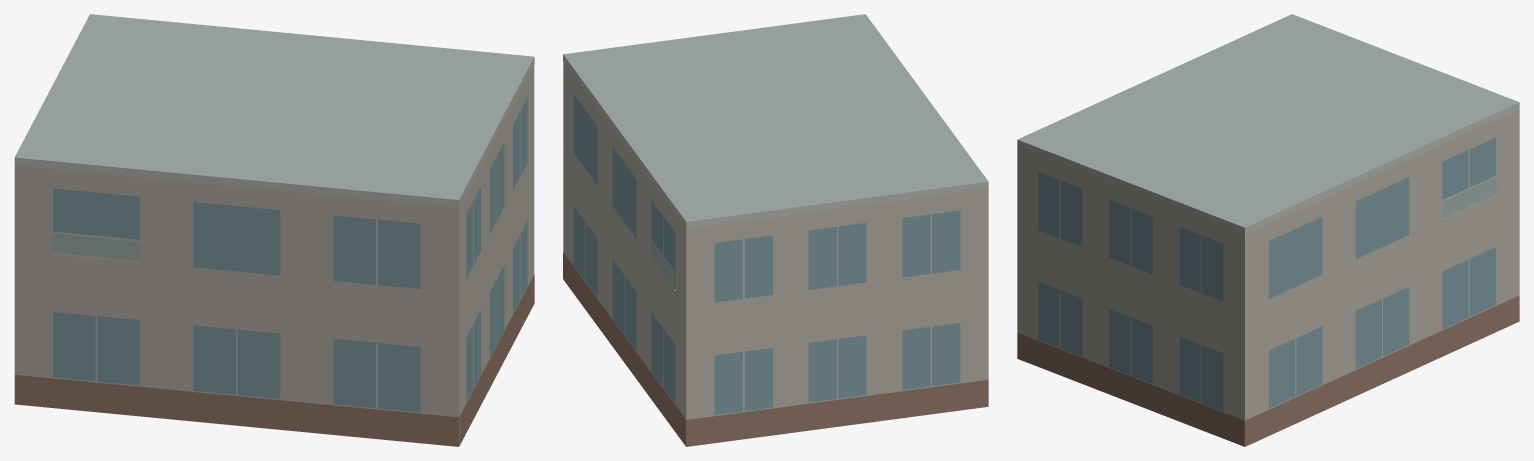
File: survey-upis-32895153.glb
3 views of the same model, side by side, from view 1: azimuth 30°, elevation 25°; view 2: azimuth 150°, elevation 25°; view 3: azimuth 270°, elevation 25° (orthographic). The views are drawn at different scales.
Visible parts, largest first — view 1: survey-upis-32895153.tmp; view 2: survey-upis-32895153.tmp; view 3: survey-upis-32895153.tmp.
Boxes of the visible parts, bbox=[...] form: survey-upis-32895153.tmp: bbox=[14, 14, 534, 446]; survey-upis-32895153.tmp: bbox=[563, 14, 988, 446]; survey-upis-32895153.tmp: bbox=[1017, 14, 1519, 446].
Bounding box in the file's own units: 16.53 × 7.9 × 16.42.
